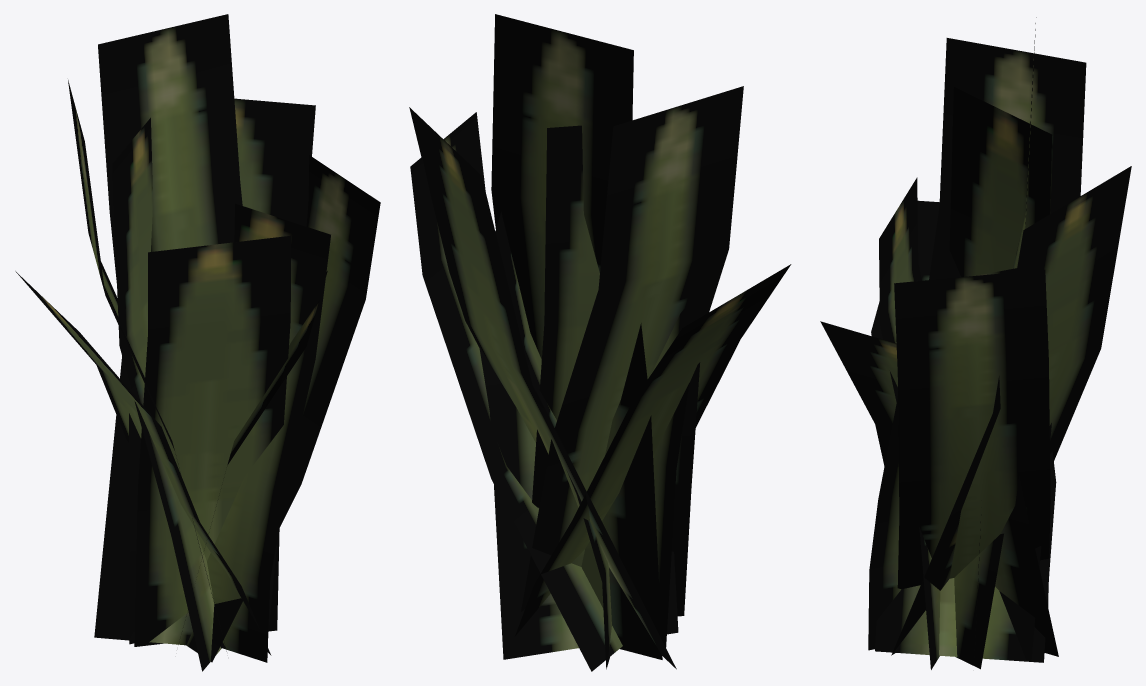
Rendered from test_plants_un_plant01.gltf.
3 renders of one model, left to right at view 1: azimuth 30°, elevation 25°; view 2: azimuth 150°, elevation 25°; view 3: azimuth 270°, elevation 25°, orthographic. The views are drawn at different scales.
Parts seen in each view (by area): view 1: um_test_plants_un_plant01_model_test_plants_un_plant01_model; view 2: um_test_plants_un_plant01_model_test_plants_un_plant01_model; view 3: um_test_plants_un_plant01_model_test_plants_un_plant01_model.
Part boxes in pixels (x1,y1,x2,y2): um_test_plants_un_plant01_model_test_plants_un_plant01_model: (15, 14, 380, 671); um_test_plants_un_plant01_model_test_plants_un_plant01_model: (409, 14, 791, 671); um_test_plants_un_plant01_model_test_plants_un_plant01_model: (820, 17, 1131, 669).
Size of the model in its own units: 0.6253 by 1.18 by 0.5599.
Materials: 1 (1 with a texture image).
